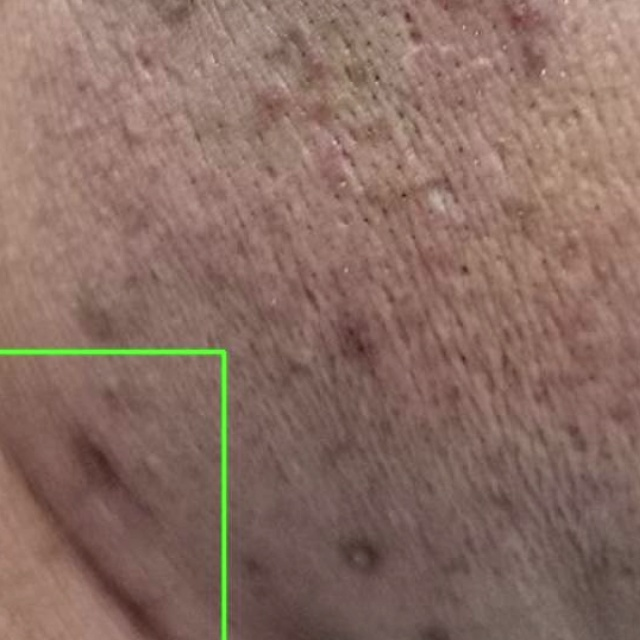Eczema: (0, 351, 224, 639)
